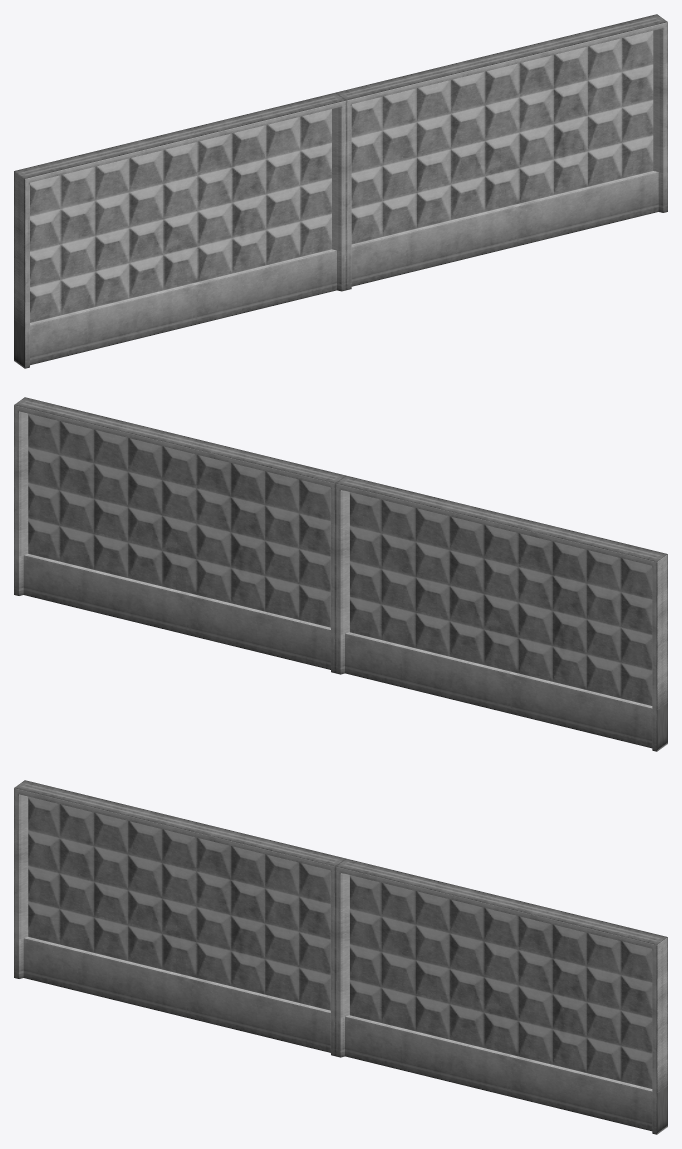
The model's file is FenceConcrete1_2.FBX.
The picture shows the model from 3 angles, top to bottom: view 1: azimuth 30°, elevation 25°; view 2: azimuth 150°, elevation 25°; view 3: azimuth 330°, elevation 25°; orthographic projection.
Visible parts, largest first — view 1: FenceConcrete1; view 2: FenceConcrete1; view 3: FenceConcrete1.
Boxes of the visible parts, bbox=[...] form: FenceConcrete1: bbox=[14, 14, 667, 368]; FenceConcrete1: bbox=[14, 397, 667, 751]; FenceConcrete1: bbox=[14, 780, 667, 1134].
Size of the model in its own units: 315 by 88.82 by 9.23.
